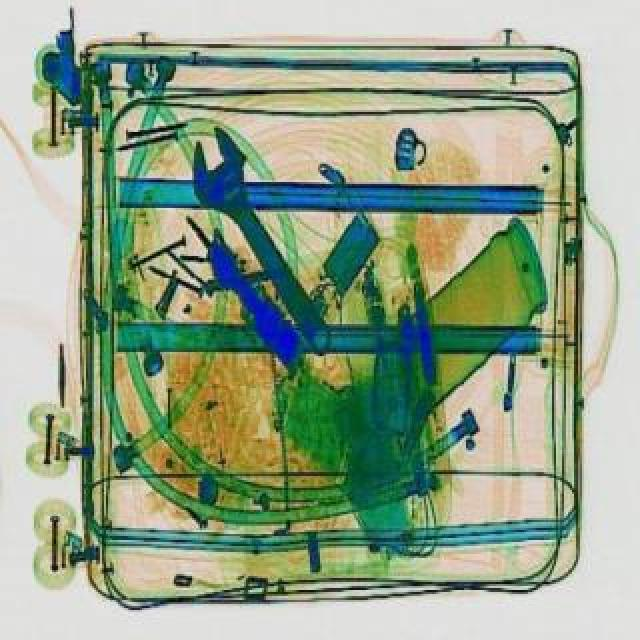scissors: (168, 124, 358, 370)
